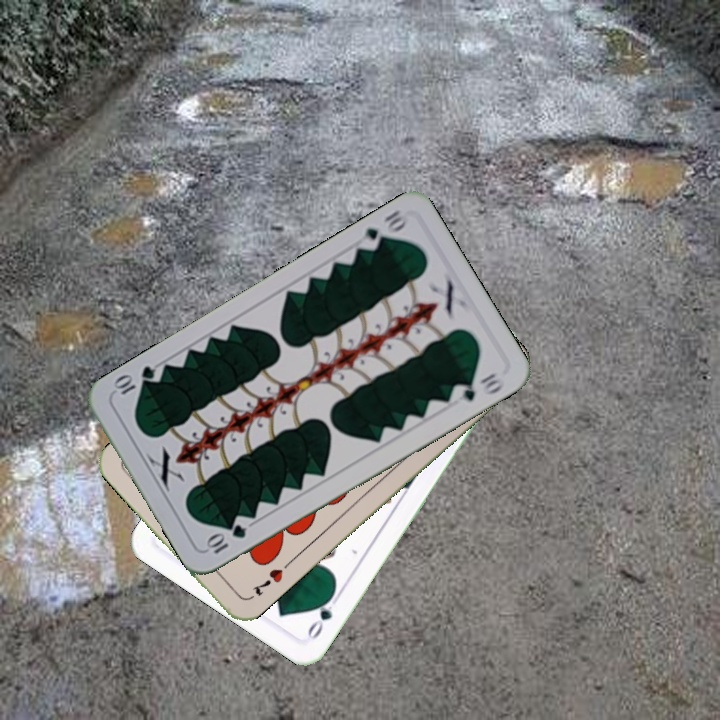G10: (355, 205, 412, 254), (202, 520, 249, 557)
GO: (303, 588, 343, 642)
H7: (248, 564, 286, 599)
